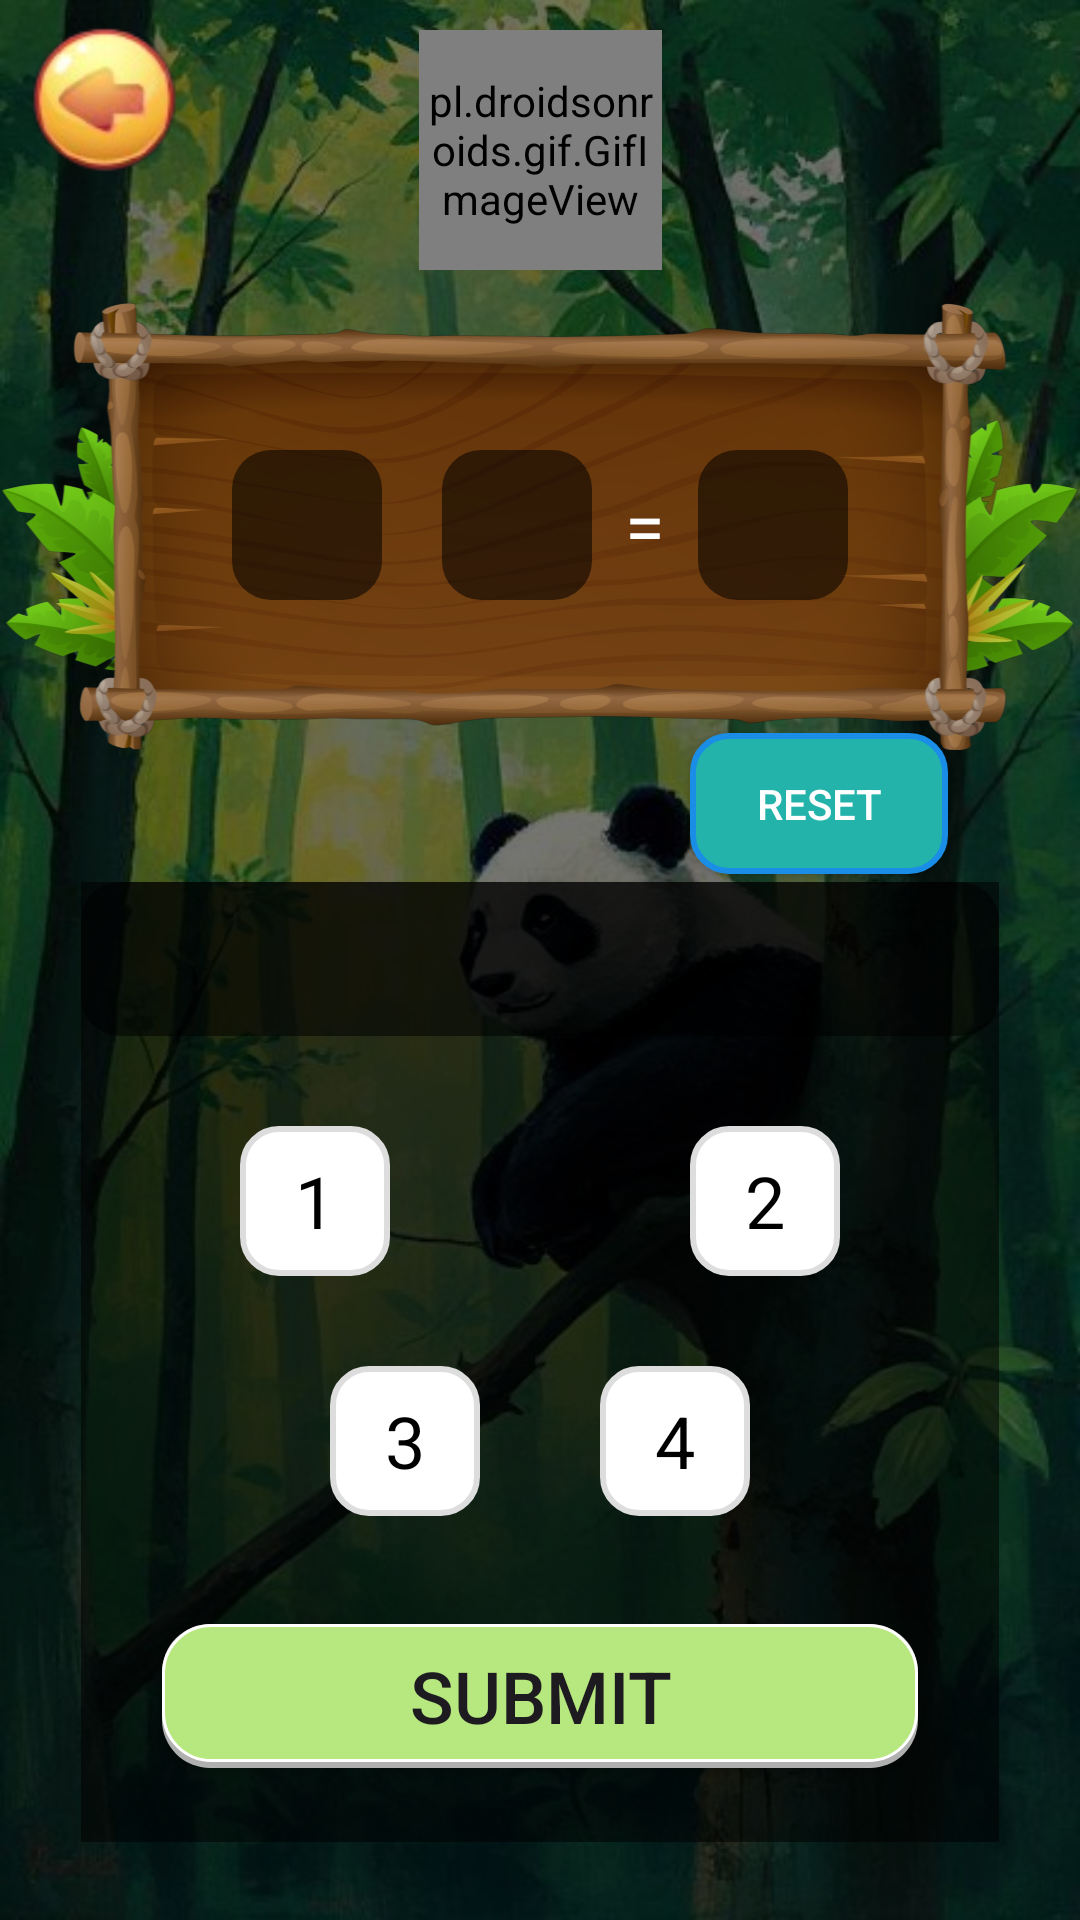

Icons on this 1080*1920 Android screen, each with the point to tap as point (x, y):
Go Back Button: point (103, 97)
